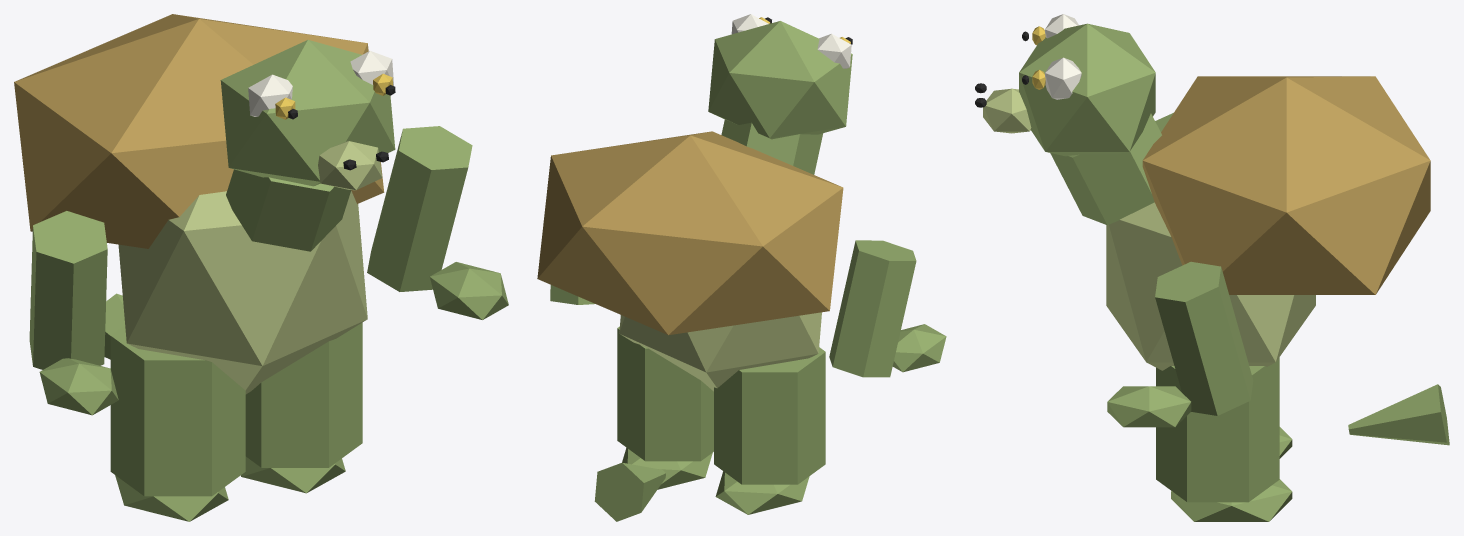
The model's file is Toby.fbx.
The picture shows the model from 3 angles, left to right: view 1: azimuth 30°, elevation 25°; view 2: azimuth 150°, elevation 25°; view 3: azimuth 270°, elevation 25°; orthographic projection. The views are drawn at different scales.
Parts seen in each view (by area): view 1: Shell_Dome, Body, Leg_L, Head, Leg_R, Arm_R, Arm_L, Neck, Paw_R, Paw_L, Snout, Foot_L (+4 smaller); view 2: Shell_Dome, Head, Leg_L, Leg_R, Arm_L, Body, Tail, Neck, Foot_L, Paw_L, Foot_R, Eye_White_L; view 3: Shell_Dome, Head, Body, Leg_R, Arm_R, Neck, Tail, Paw_R, Foot_R, Snout, Eye_White_R.
Boxes of the visible parts, x1=… form: Shell_Dome: x1=14, y1=14, x2=384, y2=248; Body: x1=118, y1=191, x2=367, y2=394; Leg_L: x1=110, y1=325, x2=245, y2=496; Head: x1=220, y1=40, x2=395, y2=186; Leg_R: x1=245, y1=322, x2=362, y2=467; Arm_R: x1=367, y1=126, x2=472, y2=291; Arm_L: x1=29, y1=211, x2=107, y2=369; Neck: x1=226, y1=169, x2=351, y2=251; Paw_R: x1=430, y1=262, x2=508, y2=319; Paw_L: x1=39, y1=358, x2=118, y2=415; Snout: x1=318, y1=141, x2=382, y2=190; Foot_L: x1=115, y1=475, x2=228, y2=521; Shell_Dome: x1=537, y1=131, x2=843, y2=335; Head: x1=708, y1=21, x2=852, y2=139; Leg_L: x1=714, y1=347, x2=825, y2=484; Leg_R: x1=617, y1=326, x2=713, y2=461; Arm_L: x1=829, y1=240, x2=916, y2=377; Body: x1=619, y1=312, x2=821, y2=391; Tail: x1=594, y1=462, x2=665, y2=521; Neck: x1=721, y1=119, x2=823, y2=174; Foot_L: x1=715, y1=471, x2=809, y2=514; Paw_L: x1=892, y1=324, x2=946, y2=372; Foot_R: x1=622, y1=447, x2=712, y2=489; Eye_White_L: x1=817, y1=33, x2=851, y2=68; Shell_Dome: x1=1142, y1=76, x2=1430, y2=294; Head: x1=1019, y1=23, x2=1155, y2=156; Body: x1=1106, y1=202, x2=1315, y2=370; Leg_R: x1=1156, y1=357, x2=1279, y2=502; Arm_R: x1=1155, y1=261, x2=1253, y2=415; Neck: x1=1050, y1=113, x2=1161, y2=225; Tail: x1=1348, y1=384, x2=1449, y2=445; Paw_R: x1=1107, y1=386, x2=1191, y2=427; Foot_R: x1=1171, y1=479, x2=1292, y2=521; Snout: x1=983, y1=88, x2=1031, y2=133; Eye_White_R: x1=1045, y1=57, x2=1081, y2=99.
Bounding box in the file's own units: 69.66 × 75.15 × 69.11.
